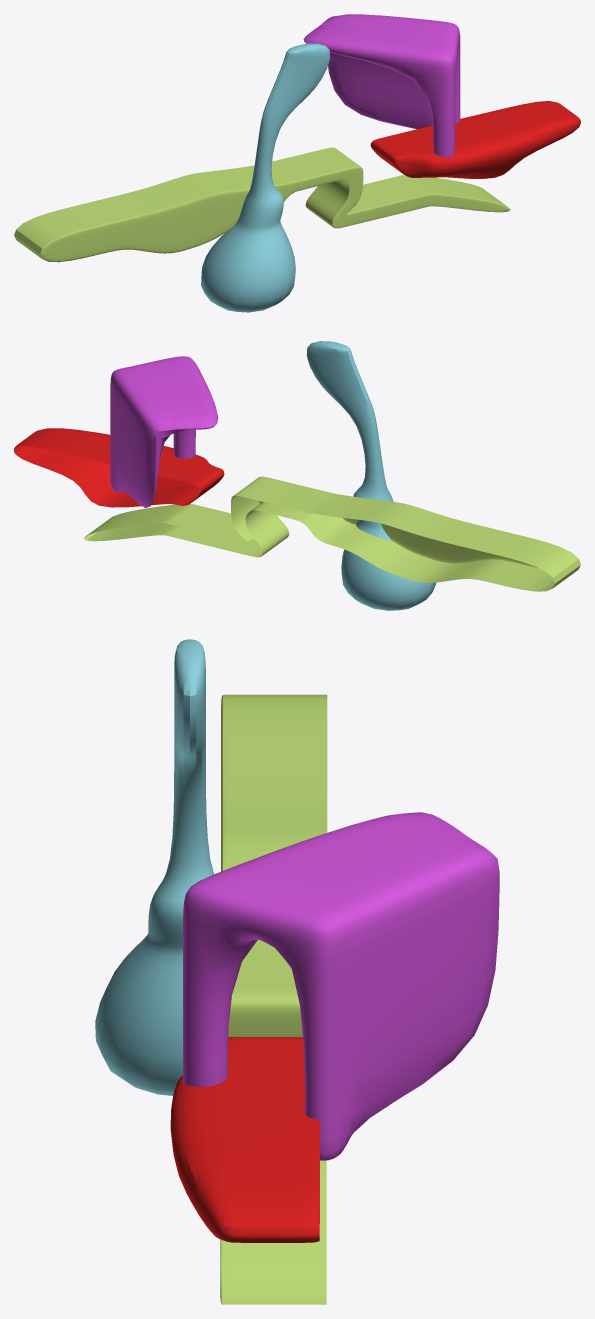
Rendered from SpawnLokace_1.fbx.
The picture shows the model from 3 angles, top to bottom: view 1: azimuth 30°, elevation 25°; view 2: azimuth 150°, elevation 25°; view 3: azimuth 270°, elevation 25°; orthographic projection. The views are drawn at different scales.
Parts seen in each view (by area): view 1: Cube.006; view 2: Cube.006; view 3: Cube.006.
Part boxes in pixels (x1,y1,x2,y2): Cube.006: [14, 14, 580, 312]; Cube.006: [14, 341, 580, 610]; Cube.006: [95, 639, 499, 1304].
Size of the model in its own units: 16316 by 7004 by 5265.
